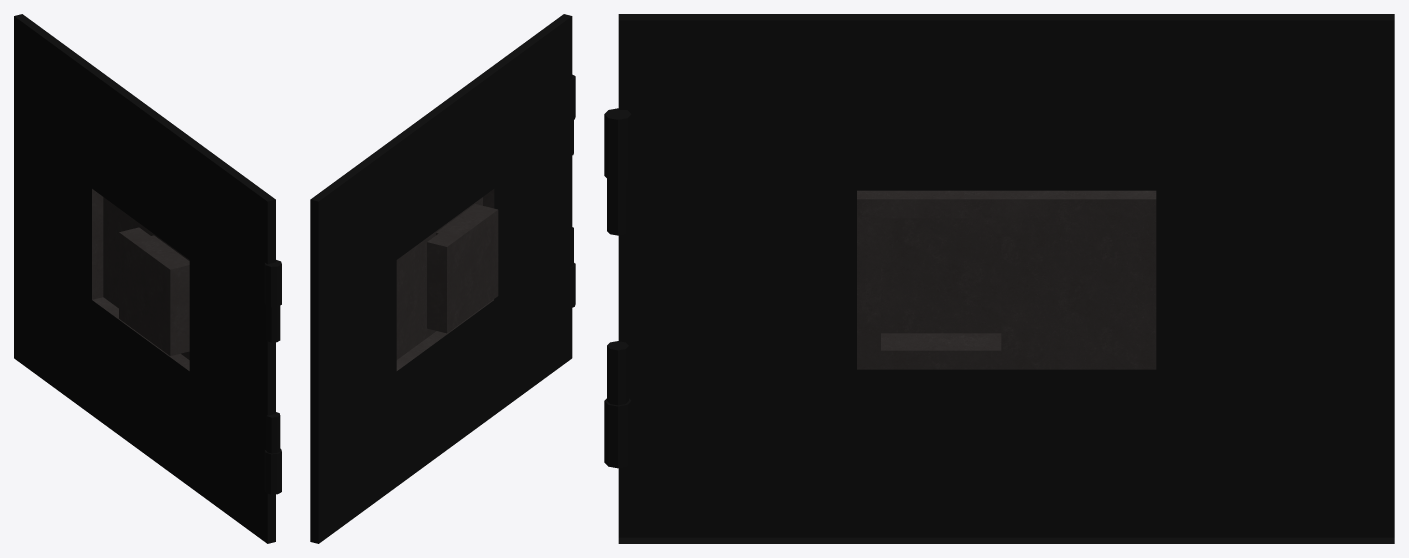
Rendered from Generator_Compartment Door.glb.
3 renders of one model, left to right at view 1: azimuth 30°, elevation 25°; view 2: azimuth 150°, elevation 25°; view 3: azimuth 270°, elevation 25°, orthographic. The views are drawn at different scales.
Parts seen in each view (by area): view 1: Generator Door; view 2: Generator Door; view 3: Generator Door.
Part boxes in pixels (<box>): Generator Door: <box>14,14,281,543</box>; Generator Door: <box>310,14,575,543</box>; Generator Door: <box>604,14,1394,543</box>.
Size of the model in its own units: 0.0889 by 1.17 by 1.6.
1 material, 1 textured.
